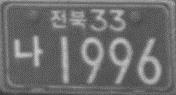1: (59, 34, 73, 84)
3: (89, 7, 108, 32), (108, 8, 126, 32)
6: (136, 36, 161, 86)
9: (109, 36, 133, 87), (81, 37, 105, 87)
나: (13, 34, 43, 69)
전북_O: (50, 7, 87, 29)
